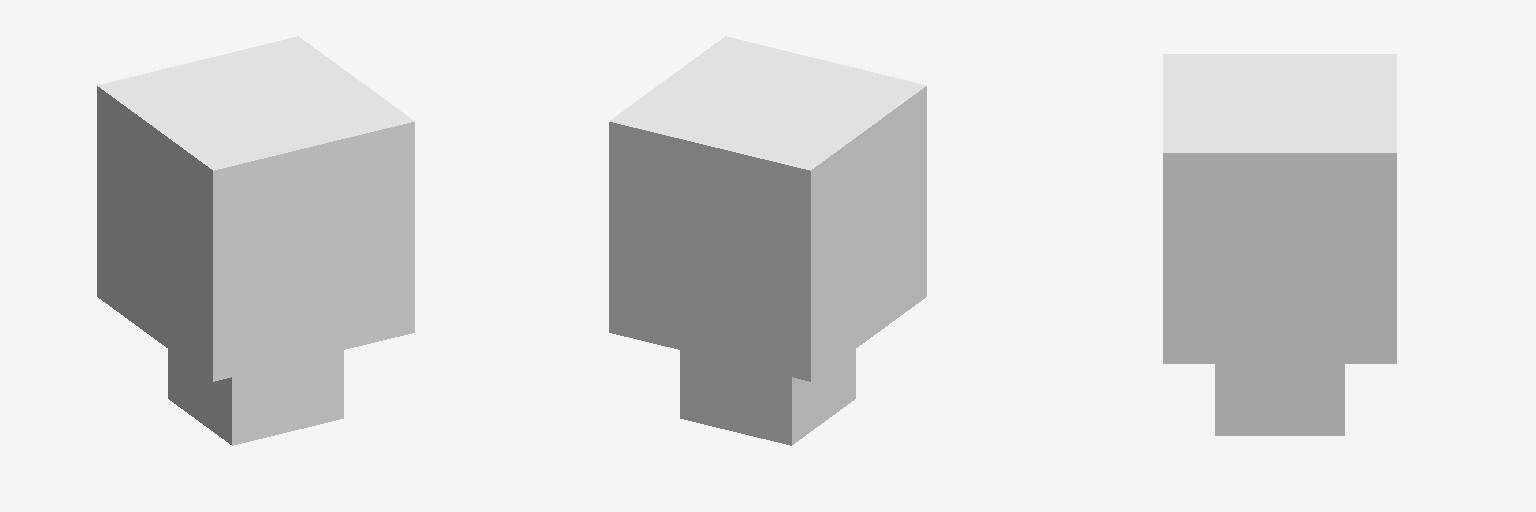
File: CrossyTree02.obj
The picture shows the model from 3 angles: view 1: azimuth 30°, elevation 25°; view 2: azimuth 150°, elevation 25°; view 3: azimuth 270°, elevation 25°; orthographic projection.
Visible parts, largest first — view 1: object 1; view 2: object 1; view 3: object 1.
Part boxes in pixels (x1,y1,x2,y2): object 1: (97, 36, 414, 445); object 1: (609, 36, 926, 445); object 1: (1163, 54, 1396, 435).
Size of the model in its own units: 0.9 by 1.3 by 0.9.